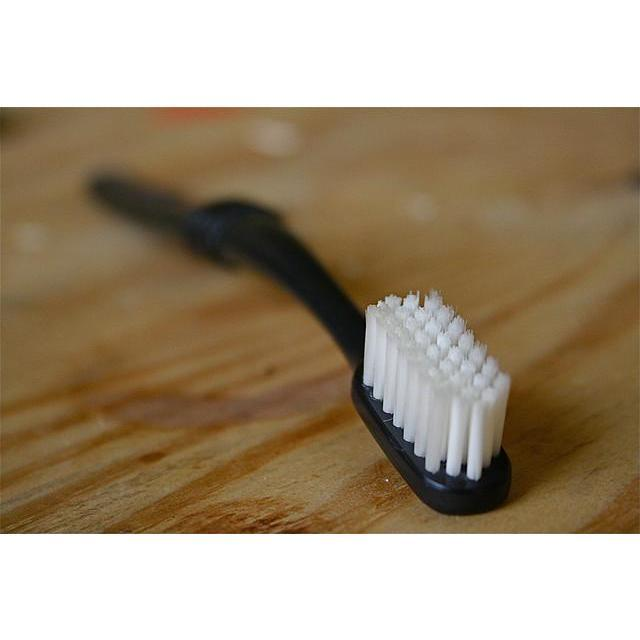toothbrush: (99, 176, 514, 516)
